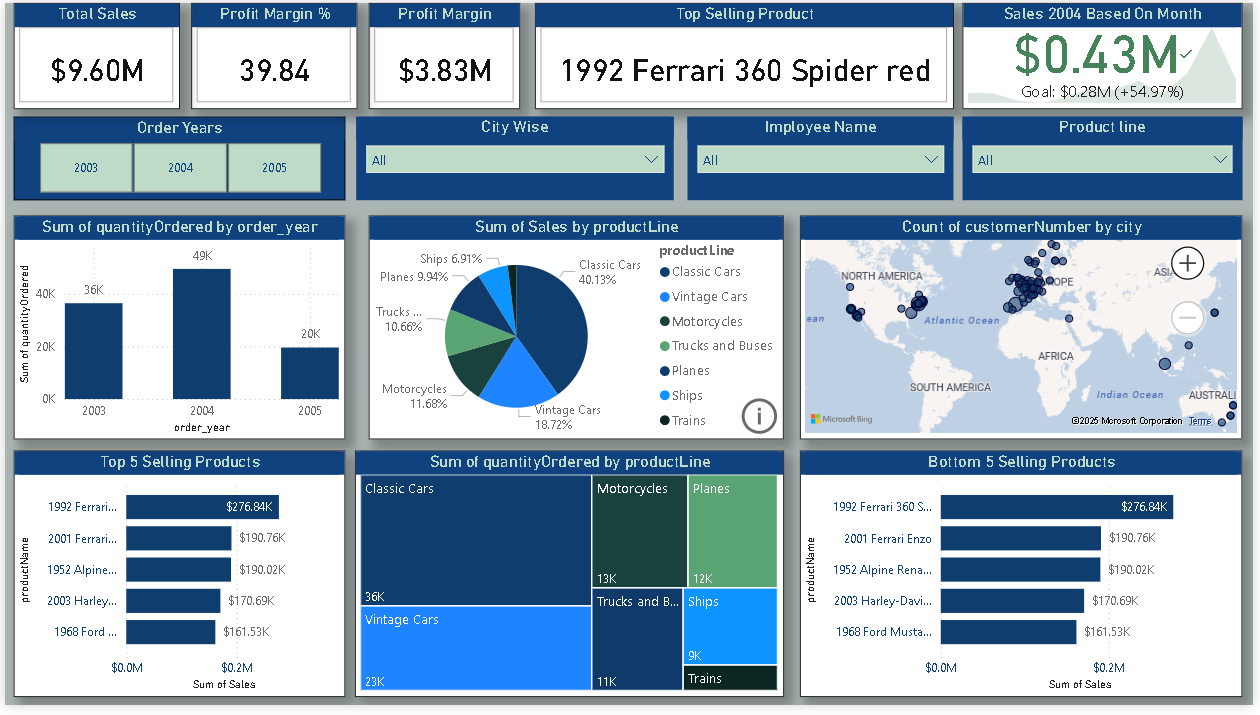

This screenshot's page, from the dashboard's own definition file:
{"tool":"powerbi","page":{"name":"Dashboard","canvas":[1280,720],"ordinal":0},"visuals":[{"type":"cardVisual","title":"Profit Margin","fields":{"Data":["order details.total_profit"]},"box":[373.1,0,155.1,109],"z":0},{"type":"cardVisual","title":"Top Selling Product","fields":{"Data":["products.MostOrderedProduct"]},"box":[543.6,0,429.5,109],"z":1000},{"type":"barChart","title":"Top 5 Selling Products","fields":{"Category":["products.productName"],"Y":["order details.Sales"]},"box":[9,459,339.7,252.6],"z":2000},{"type":"pieChart","fields":{"Category":["products.productLine"],"Y":["order details.Sales"]},"box":[373.1,217.9,425.6,229.5],"z":3000},{"type":"slicer","title":"Order Years","fields":{"Values":["orders.order_year"]},"box":[9,116.7,339.7,85.9],"z":4000},{"type":"kpi","title":"Sales 2004 Based On Month","fields":{"Indicator":["orders.sales_2004"],"Goal":["orders.sales_2003"],"TrendLine":["orders.Month Name"]},"box":[982.1,0,287.2,109],"z":5000},{"type":"map","fields":{"Category":["customers.city","customers.country"],"Size":["customers.customerNumber"]},"box":[815.4,217.9,453.8,229.5],"z":6000},{"type":"treemap","fields":{"Group":["productlines.productLine"],"Values":["order details.quantityOrdered"]},"box":[359,459,439.7,252.6],"z":7000},{"type":"clusteredColumnChart","fields":{"Category":["orders.order_year"],"Y":["order details.quantityOrdered"]},"box":[9,217.9,339.7,229.5],"z":8000},{"type":"cardVisual","title":"Profit Margin %","fields":{"Data":["orders.Profit_Margin_%"]},"box":[191,0,170.5,109],"z":9000},{"type":"cardVisual","title":"Total Sales","fields":{"Data":["order details.Sales"]},"box":[9,0,170.5,109],"z":10000},{"type":"slicer","title":"City Wise","fields":{"Values":["offices.city"]},"box":[360.3,116.7,325.6,85.9],"z":11000},{"type":"slicer","title":"Imployee Name","fields":{"Values":["employees.Full_Name"]},"box":[700,116.7,273.1,85.9],"z":12000},{"type":"slicer","title":"Product line","fields":{"Values":["productlines.productLine"]},"box":[982.1,116.7,287.2,85.9],"z":13000},{"type":"barChart","title":"Bottom 5 Selling Products","fields":{"Category":["products.productName"],"Y":["order details.Sales"]},"box":[815.4,459,453.8,252.6],"z":14000},{"type":"actionButton","box":[750,400,48.7,47.4],"z":15000}]}

Visuals, with their boxes in screenshot pixels (x1, y1, x2, y2), scaled from the page's 1280x720 canvas onto the 1260x715 screenshot:
"Profit Margin" cardVisual: [left=367, top=0, right=520, bottom=108]
"Top Selling Product" cardVisual: [left=535, top=0, right=958, bottom=108]
"Top 5 Selling Products" barChart: [left=9, top=456, right=343, bottom=707]
pieChart - products.productLine x order details.Sales: [left=367, top=216, right=786, bottom=444]
"Order Years" slicer: [left=9, top=116, right=343, bottom=201]
"Sales 2004 Based On Month" kpi: [left=967, top=0, right=1249, bottom=108]
map - customers.city x customers.country: [left=803, top=216, right=1249, bottom=444]
treemap - productlines.productLine x order details.quantityOrdered: [left=353, top=456, right=786, bottom=707]
clusteredColumnChart - orders.order_year x order details.quantityOrdered: [left=9, top=216, right=343, bottom=444]
"Profit Margin %" cardVisual: [left=188, top=0, right=356, bottom=108]
"Total Sales" cardVisual: [left=9, top=0, right=177, bottom=108]
"City Wise" slicer: [left=355, top=116, right=675, bottom=201]
"Imployee Name" slicer: [left=689, top=116, right=958, bottom=201]
"Product line" slicer: [left=967, top=116, right=1249, bottom=201]
"Bottom 5 Selling Products" barChart: [left=803, top=456, right=1249, bottom=707]
actionButton: [left=738, top=397, right=786, bottom=444]
